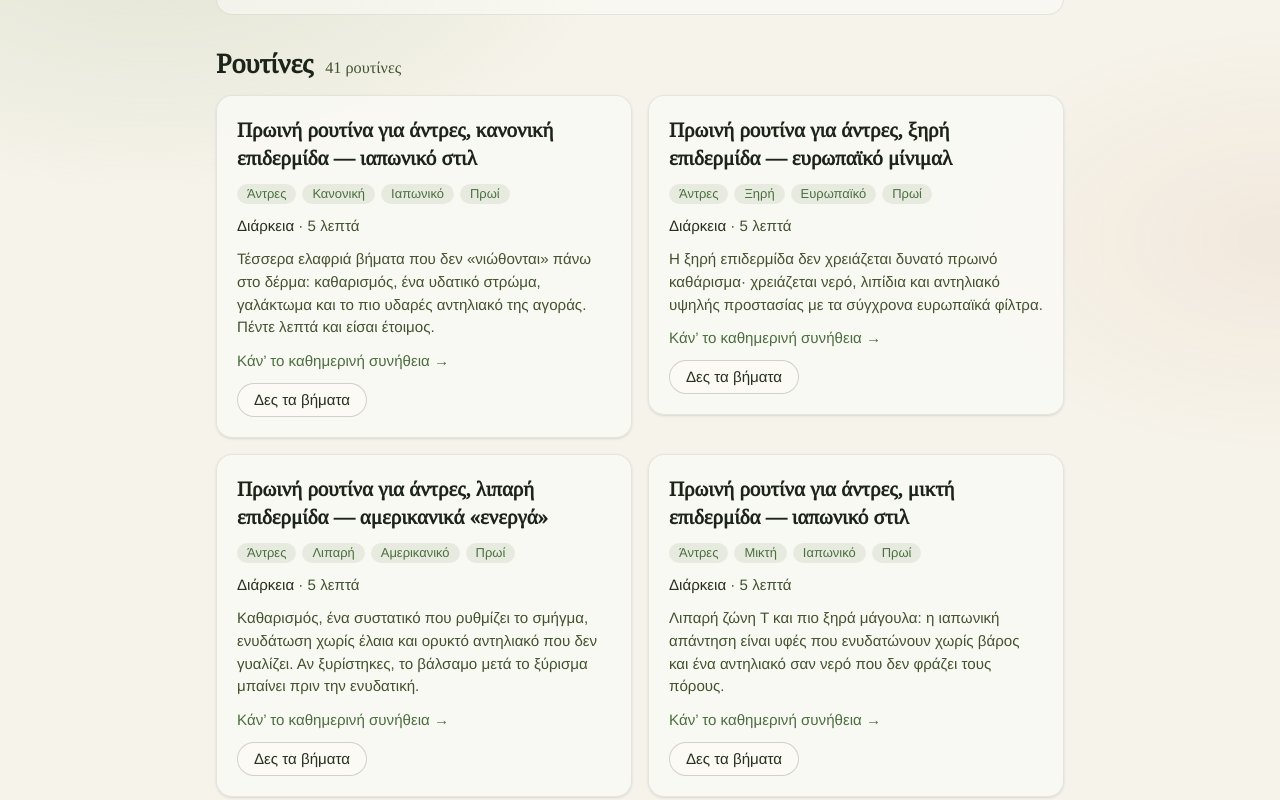
Test: <SkincarePage> with the bundled source › renders a step whose product type is not visible muted, with its slug and the unavailable label
The width and height of the screenshot is (1280, 800).
(page scrolled)
Expected: the text "41 ρουτίνες" is shown, [325,57,401,77]
Click the 2nd button "Δες τα βήματα": (302, 400) [237,383,367,417]
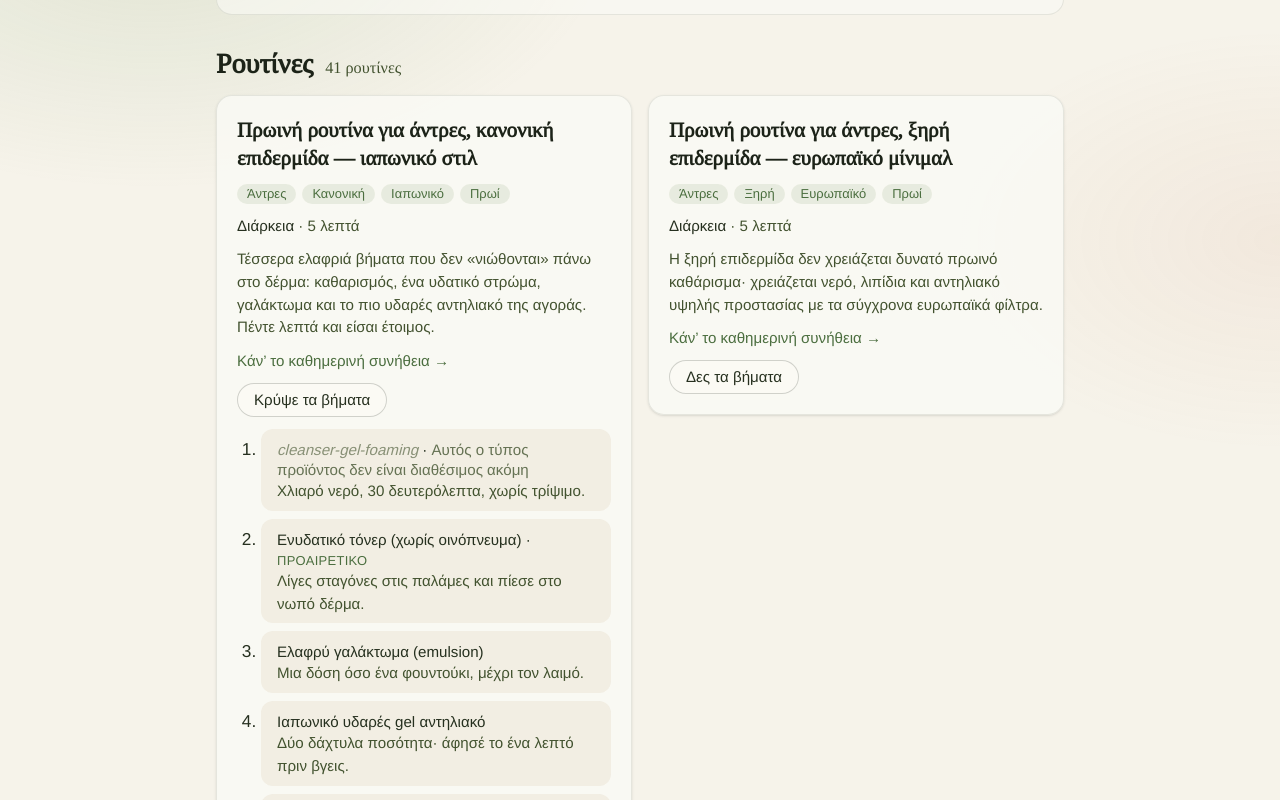
Expected: the list item that starts with "cleanser-gel-foaming" is shown, [277,441,418,458]
